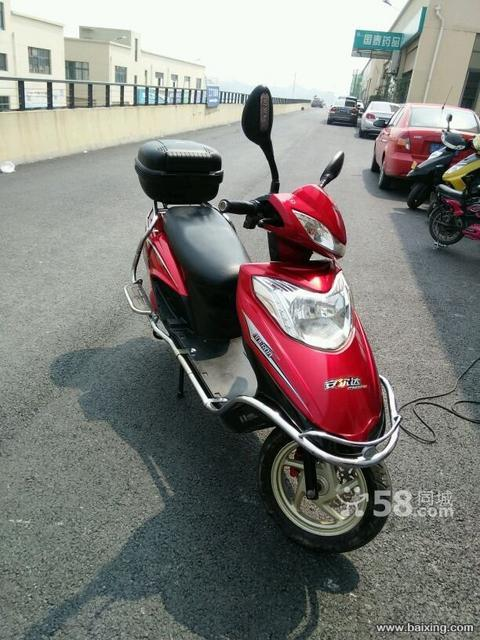电动车: (115, 76, 405, 544)
